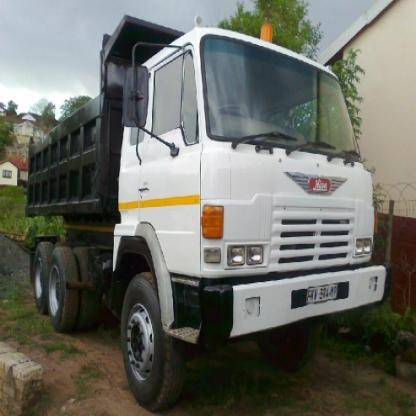dump_truck: (22, 4, 398, 406)
